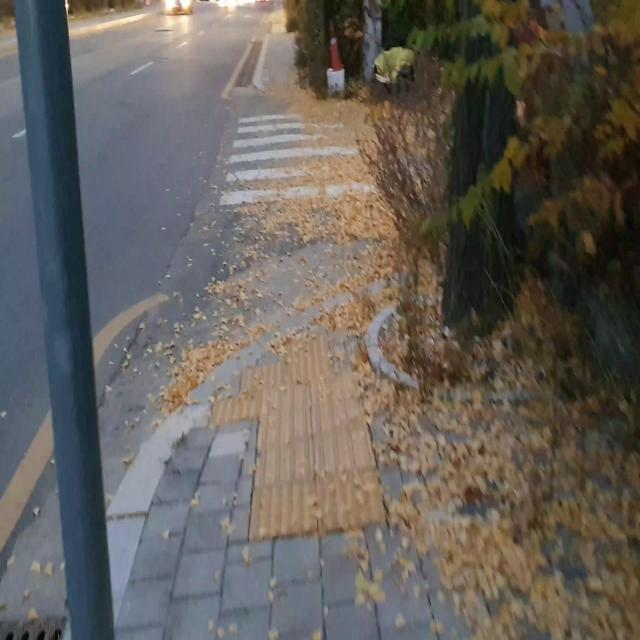crosswalk: (216, 109, 394, 219)
